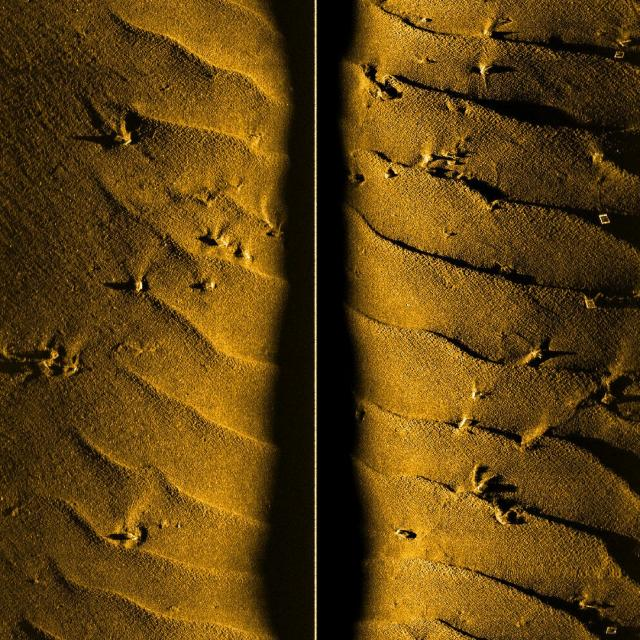other: (448, 449, 524, 534), (31, 333, 90, 392)
